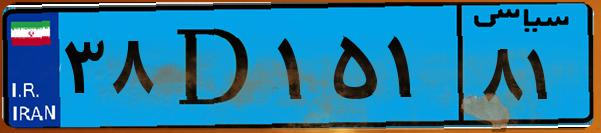1: (270, 28, 330, 110), (385, 28, 445, 110), (525, 38, 570, 115)
3: (57, 26, 110, 100)
5: (330, 28, 385, 110)
8: (475, 38, 525, 113), (110, 28, 158, 98)
D: (158, 12, 270, 120)
